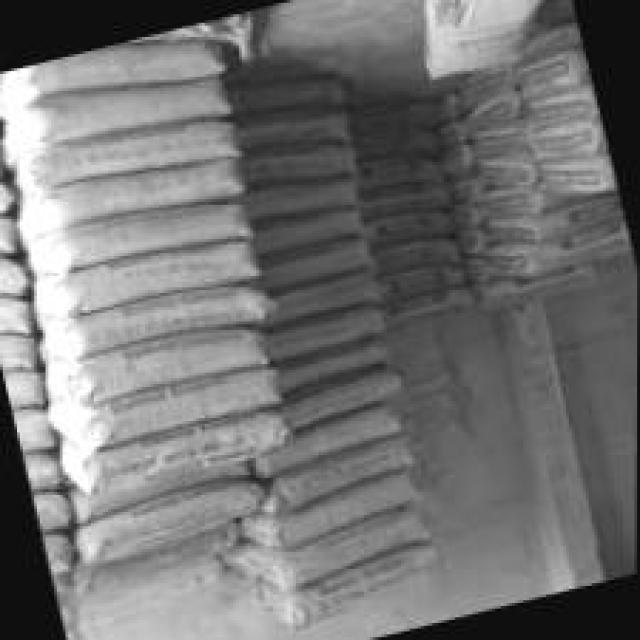gunny_bag: (76, 404, 289, 502), (222, 496, 428, 588), (218, 538, 432, 625), (70, 357, 273, 447), (59, 275, 257, 364), (45, 231, 249, 316), (4, 71, 229, 148), (38, 193, 245, 275), (72, 318, 267, 405), (19, 110, 230, 188), (35, 147, 238, 228), (79, 476, 253, 564), (237, 461, 411, 546), (18, 35, 216, 94), (254, 401, 392, 478), (419, 0, 537, 73), (479, 216, 621, 273), (280, 365, 397, 428), (265, 263, 379, 325), (279, 330, 390, 391), (259, 229, 368, 290), (273, 299, 381, 360), (482, 193, 612, 239), (252, 199, 362, 253), (247, 170, 362, 216), (243, 135, 353, 182), (354, 147, 440, 191), (244, 104, 341, 143), (364, 202, 454, 244), (370, 233, 456, 275), (377, 259, 465, 300), (240, 75, 340, 111), (352, 123, 438, 164), (360, 175, 443, 216), (511, 49, 576, 98), (386, 286, 463, 324), (527, 118, 594, 157), (522, 86, 591, 123), (538, 159, 605, 191), (468, 118, 521, 155), (474, 158, 529, 184)
